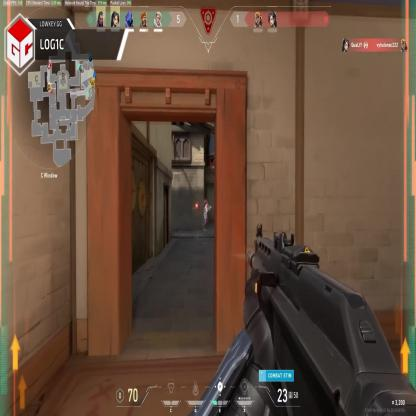enemy: (203, 200, 211, 232)
enemy_head: (206, 200, 208, 207)
